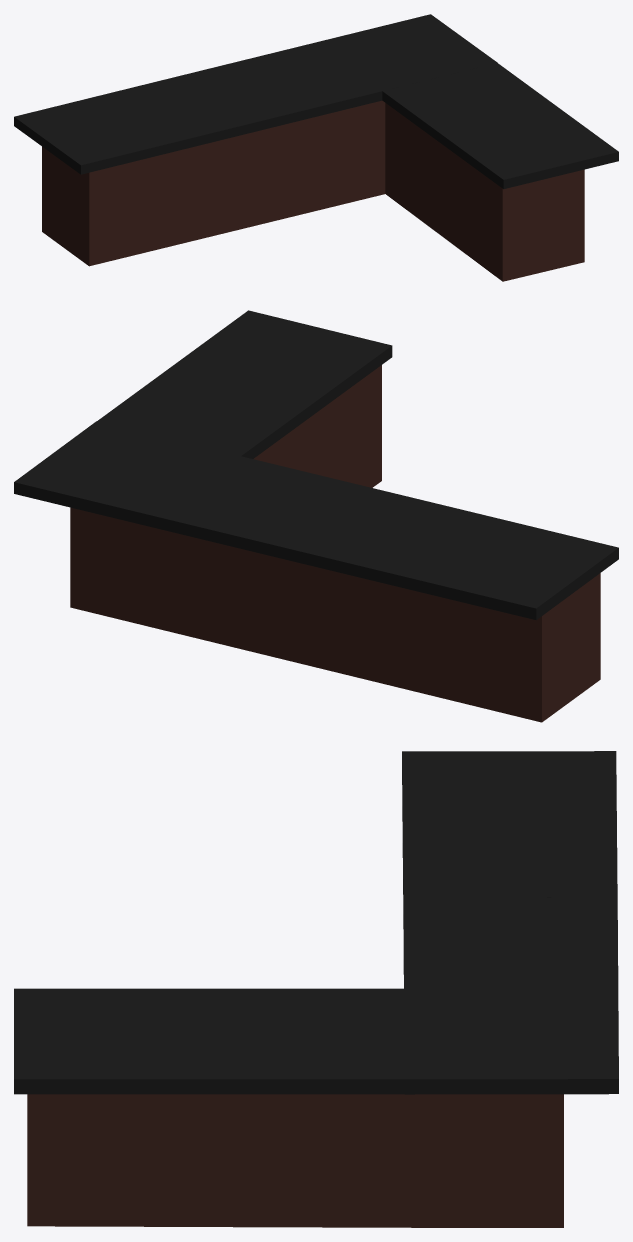
File: ladentisch.obj
3 views of the same model, one above another, from view 1: azimuth 30°, elevation 25°; view 2: azimuth 150°, elevation 25°; view 3: azimuth 270°, elevation 25° (orthographic). The views are drawn at different scales.
Visible parts, largest first — view 1: Box005, Platte; view 2: Platte, Box005; view 3: Platte, Box005.
Boxes of the visible parts, x1=… form: Box005: x1=42, y1=100, x2=584, y2=281; Platte: x1=14, y1=14, x2=618, y2=189; Platte: x1=14, y1=310, x2=618, y2=620; Box005: x1=70, y1=365, x2=600, y2=722; Platte: x1=14, y1=751, x2=618, y2=1094; Box005: x1=27, y1=1094, x2=563, y2=1227.
Size of the model in its own units: 96.55 by 23.42 by 75.19.
